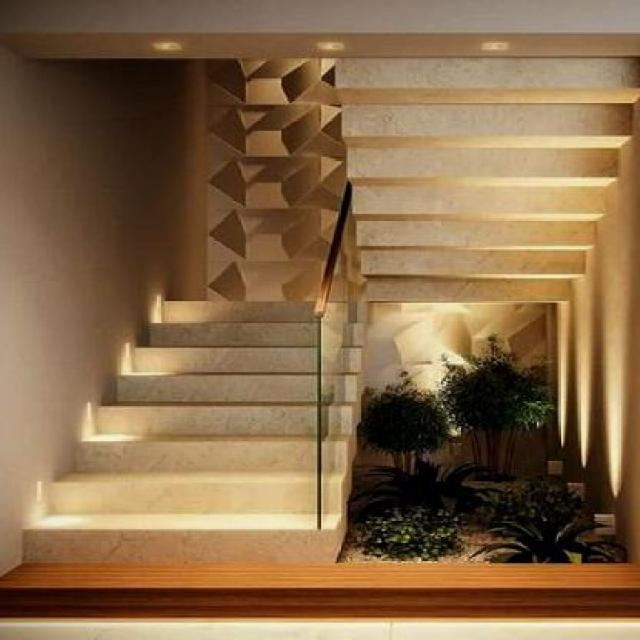stair: (13, 220, 352, 574)
